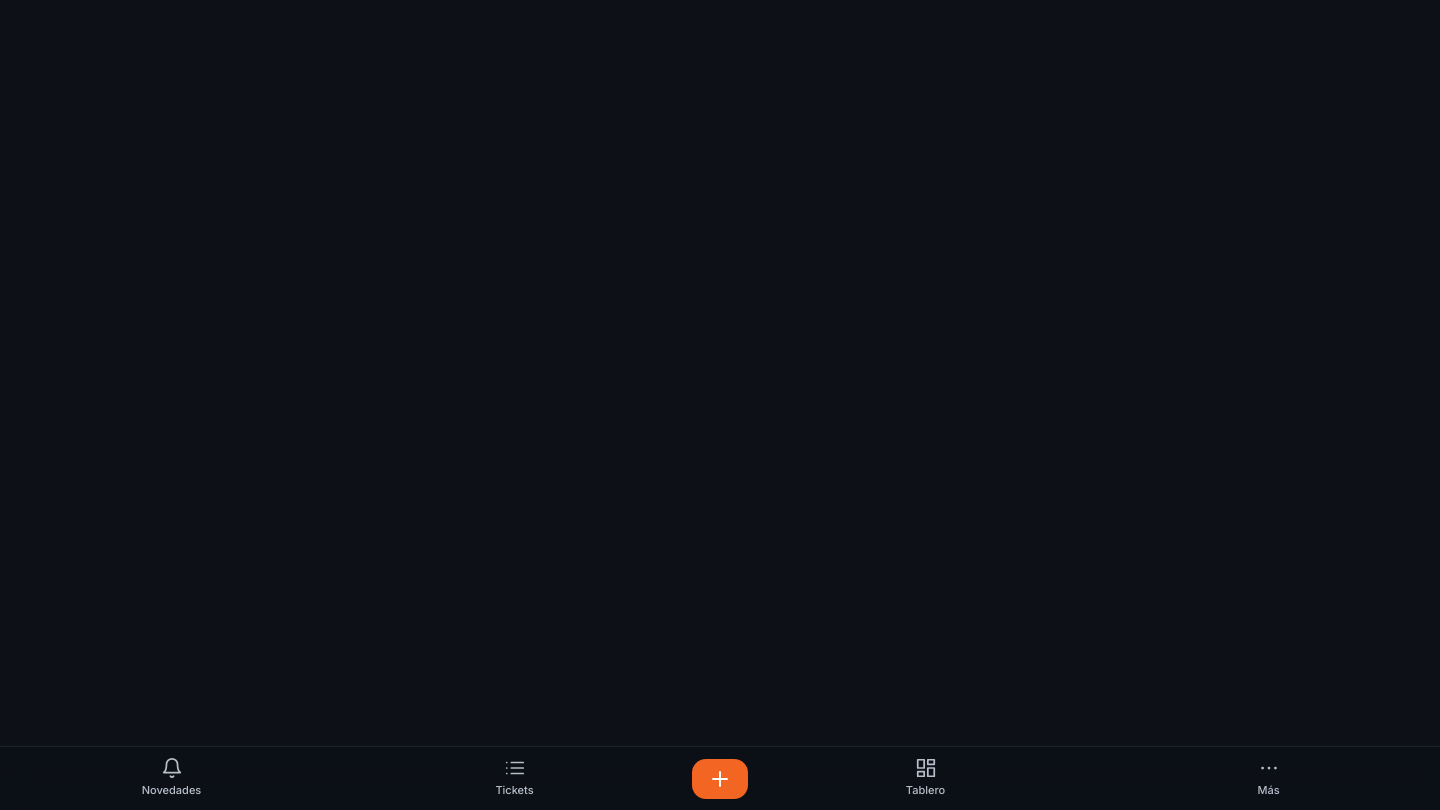
Scenario: NavegacionMovil › "Más" abre un menú con las opciones de un técnico, sin las de administrador
This screenshot has width=1440, height=810.
Click the button "Más" at [1268, 778], box [1097,747,1439,809]
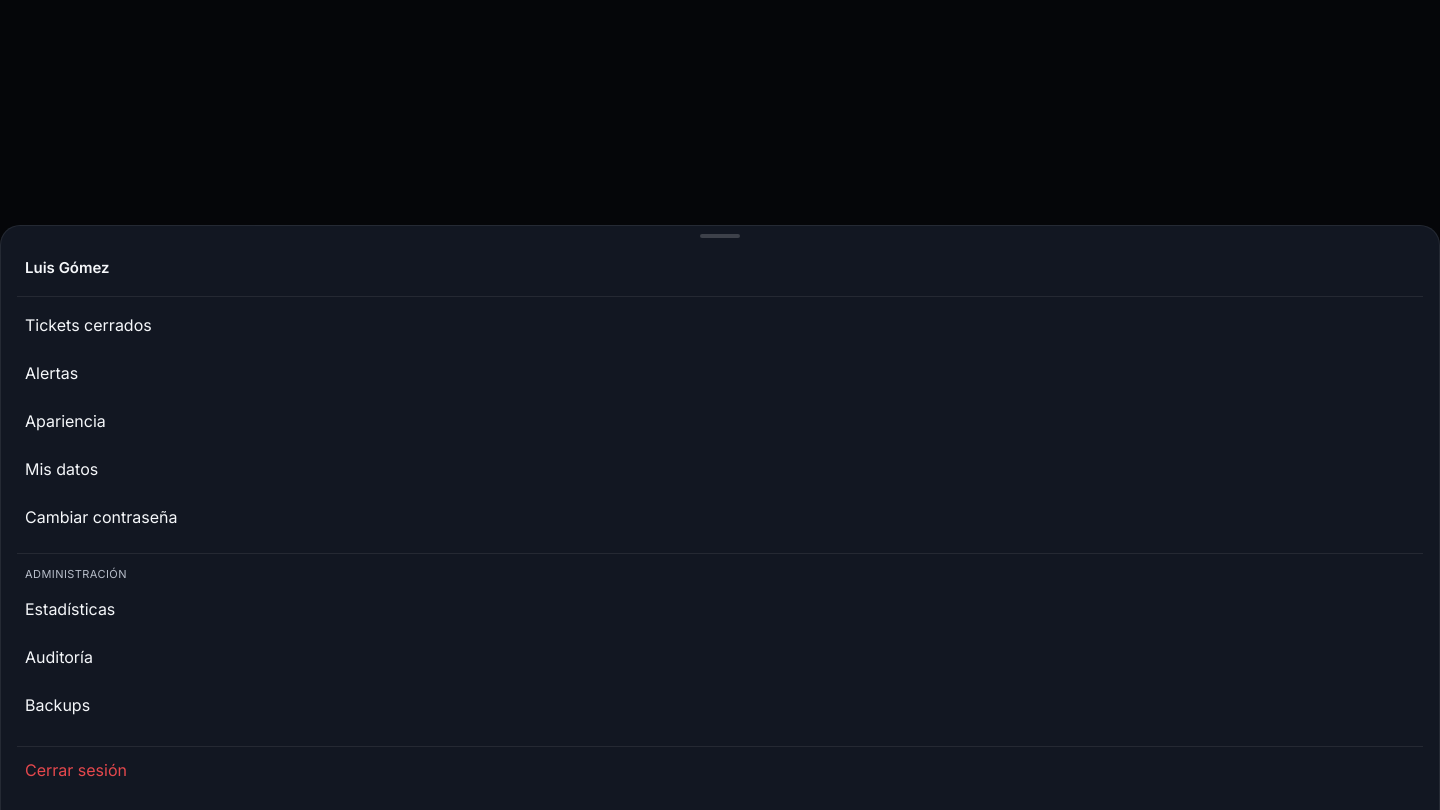
Check: the text "Luis Gómez" is shown, box [25,258,110,277]
Check: the link "Tickets cerrados" is shown, box [25,315,152,335]
Check: the link "Alertas" is shown, box [25,363,78,383]
